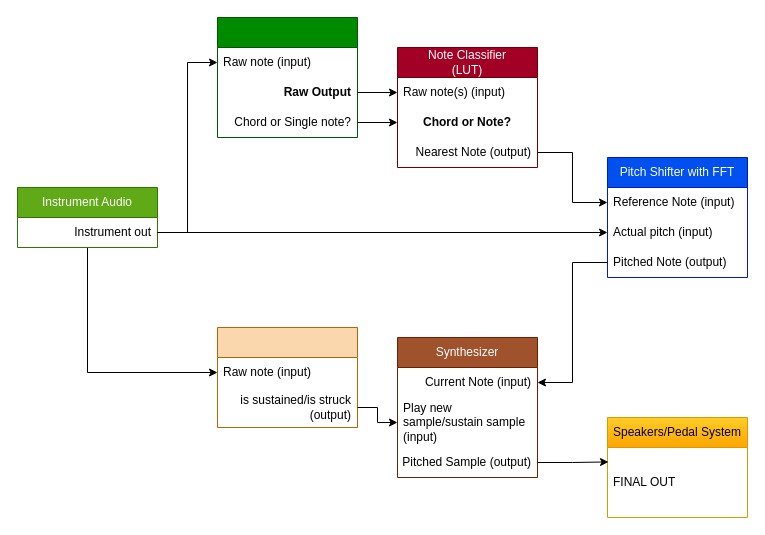
Some shapes in this 765 by 535 pixel diagram are drawn without their labels. The box of each missing label's shape, as (x1, y1, x2, y2) in pixels:
Mono vs Poly: (216, 16, 358, 138)
Strike Detection: (216, 326, 358, 428)
